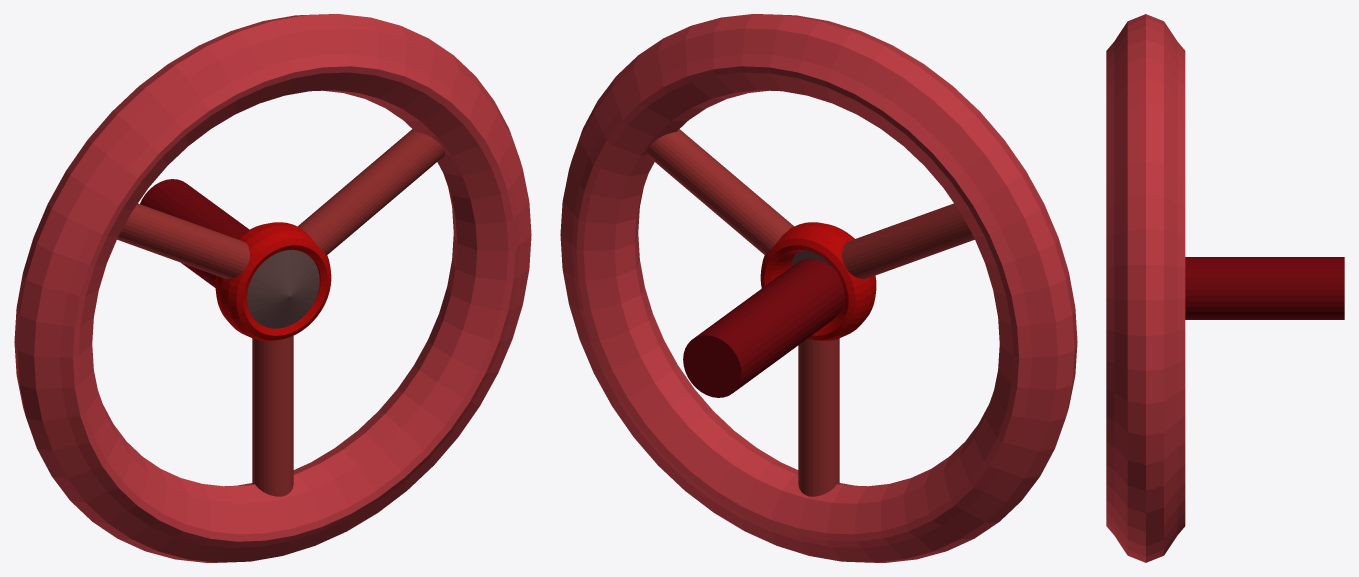
Rendered from Handle.fbx.
3 renders of one model, left to right at view 1: azimuth 30°, elevation 25°; view 2: azimuth 150°, elevation 25°; view 3: azimuth 270°, elevation 25°, orthographic. The views are drawn at different scales.
Parts seen in each view (by area): view 1: Torus, 円柱.001, 円柱, Torus.001, 円柱.002, 円錐, 円柱.003; view 2: Torus, 円柱.003, 円柱.001, 円柱, 円柱.002, Torus.001; view 3: Torus, 円柱.003.
Part boxes in pixels (x1=…): Torus: x1=14, y1=14, x2=531, y2=562; 円柱.001: x1=298, y1=129, x2=445, y2=254; 円柱: x1=252, y1=335, x2=293, y2=496; Torus.001: x1=215, y1=222, x2=331, y2=340; 円柱.002: x1=117, y1=203, x2=249, y2=279; 円錐: x1=247, y1=250, x2=319, y2=328; 円柱.003: x1=140, y1=179, x2=249, y2=287; Torus: x1=560, y1=14, x2=1077, y2=562; 円柱.003: x1=683, y1=258, x2=844, y2=397; 円柱.001: x1=646, y1=129, x2=793, y2=254; 円柱: x1=798, y1=338, x2=839, y2=496; 円柱.002: x1=842, y1=203, x2=974, y2=279; Torus.001: x1=760, y1=222, x2=876, y2=340; Torus: x1=1106, y1=14, x2=1185, y2=562; 円柱.003: x1=1185, y1=257, x2=1344, y2=319.
Bounding box in the file's own units: 487 × 487 × 211.
